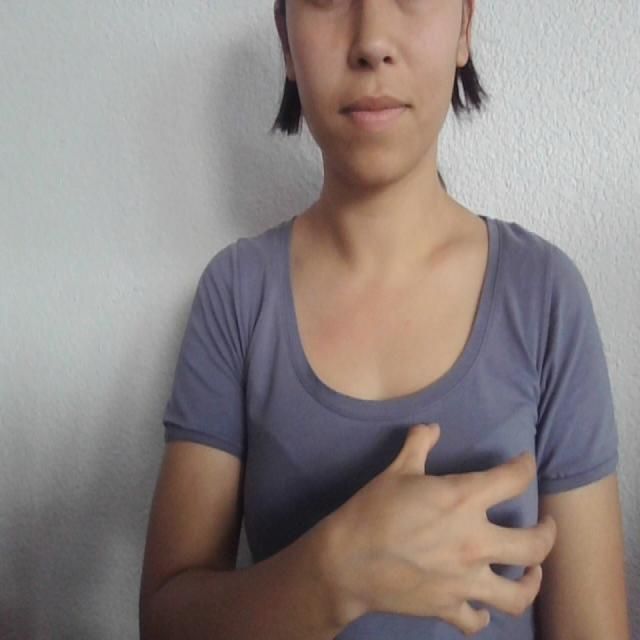Anne: (231, 407, 572, 640)
